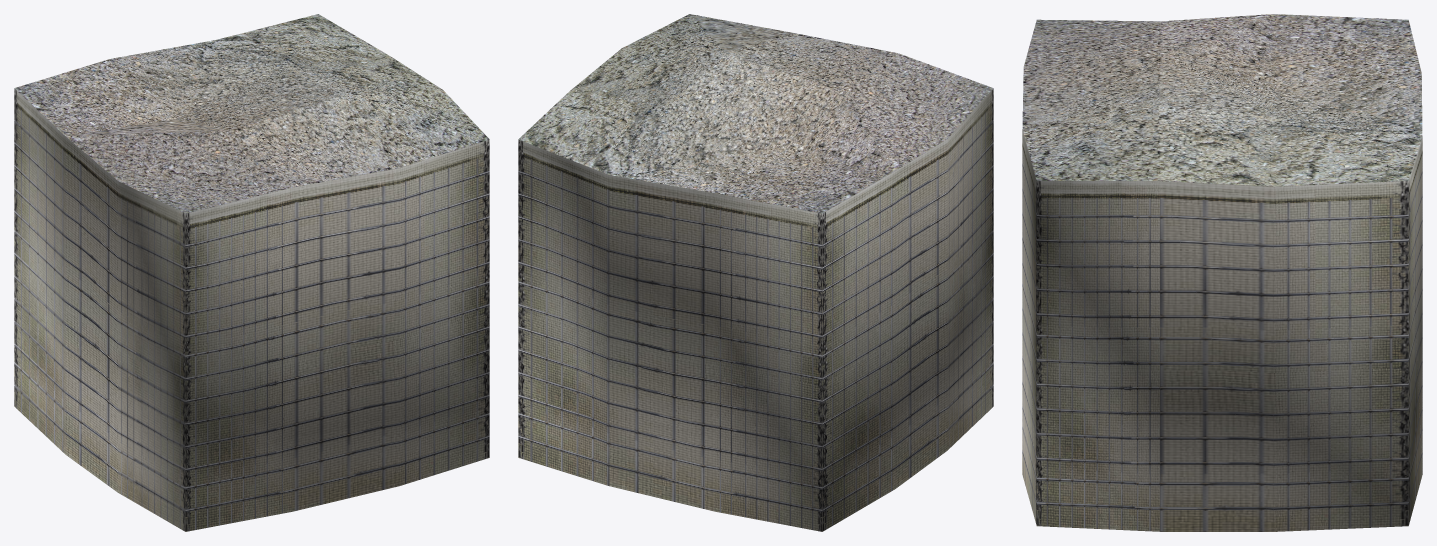
File: hesco.glb
3 renders of one model, left to right at view 1: azimuth 30°, elevation 25°; view 2: azimuth 150°, elevation 25°; view 3: azimuth 270°, elevation 25°, orthographic. The views are drawn at different scales.
Visible parts, largest first — view 1: Hesco; view 2: Hesco; view 3: Hesco.
Boxes of the visible parts, x1=… form: Hesco: x1=14, y1=14, x2=489, y2=531; Hesco: x1=518, y1=14, x2=993, y2=531; Hesco: x1=1022, y1=14, x2=1422, y2=531.
Bounding box in the file's own units: 0.9527 × 0.9581 × 0.9331.
2 materials, 2 textured.
